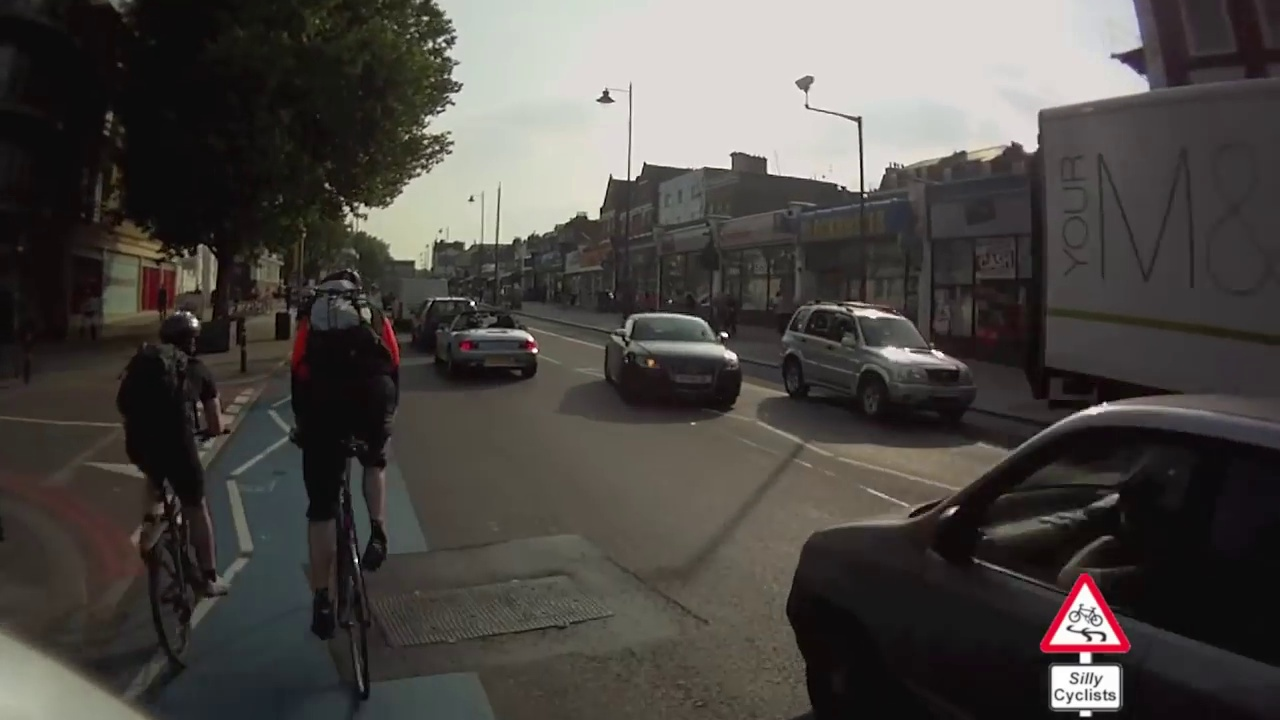cyclist_back: (297, 267, 419, 706), (123, 301, 236, 662)
